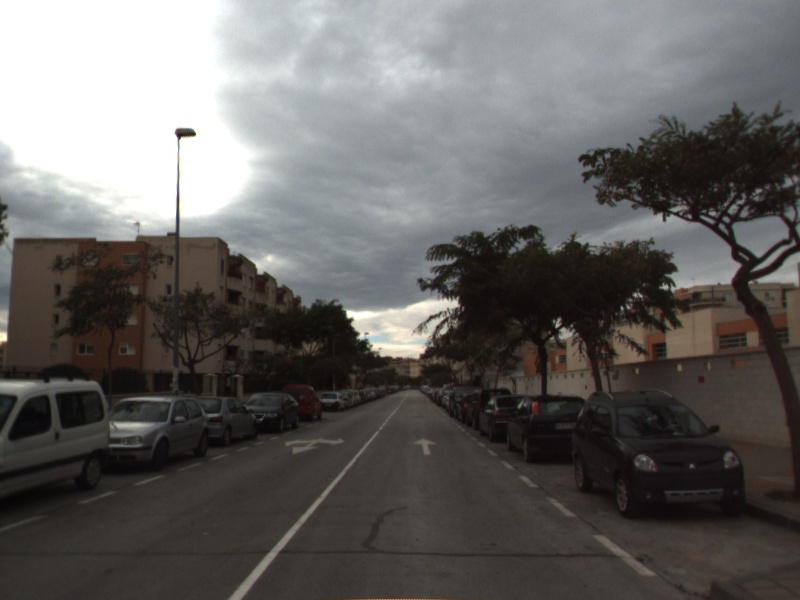STRAIGHT: (411, 435, 439, 457)
